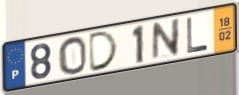1: (131, 23, 146, 65)
8: (29, 42, 53, 80)
D: (88, 29, 120, 74)
L: (185, 16, 210, 54)
N: (151, 17, 182, 63)
O: (57, 35, 89, 76)
